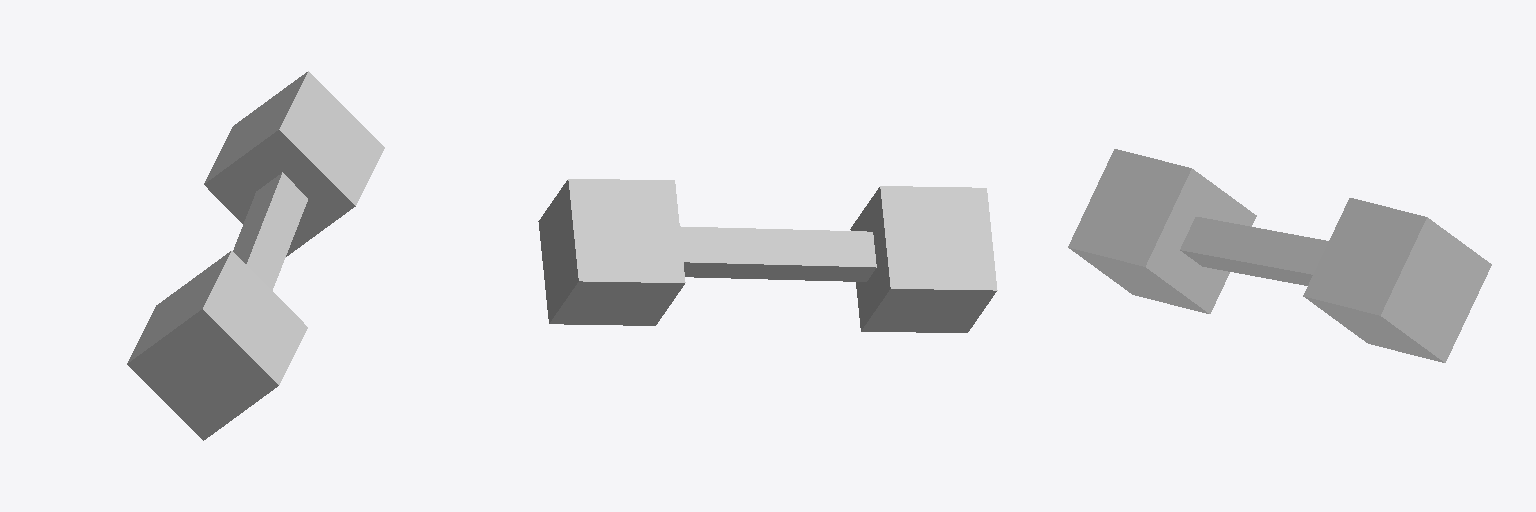
Rendered from t_dumbbell.obj.
3 renders of one model, left to right at view 1: azimuth 30°, elevation 25°; view 2: azimuth 150°, elevation 25°; view 3: azimuth 270°, elevation 25°, orthographic.
Visible parts, largest first — view 1: Mesh.001_Cube_Cube.002, Mesh_Cube.001_Cube.003; view 2: Mesh.001_Cube_Cube.002, Mesh_Cube.001_Cube.003; view 3: Mesh.001_Cube_Cube.002, Mesh_Cube.001_Cube.003.
Part boxes in pixels (x1,y1,x2,y2): Mesh.001_Cube_Cube.002: (127, 172, 307, 440); Mesh_Cube.001_Cube.003: (204, 71, 384, 256); Mesh.001_Cube_Cube.002: (680, 186, 997, 332); Mesh_Cube.001_Cube.003: (538, 179, 685, 325); Mesh.001_Cube_Cube.002: (1068, 149, 1328, 313); Mesh_Cube.001_Cube.003: (1303, 198, 1491, 362).
Bounding box in the file's own units: 7.43 × 3.98 × 7.62.